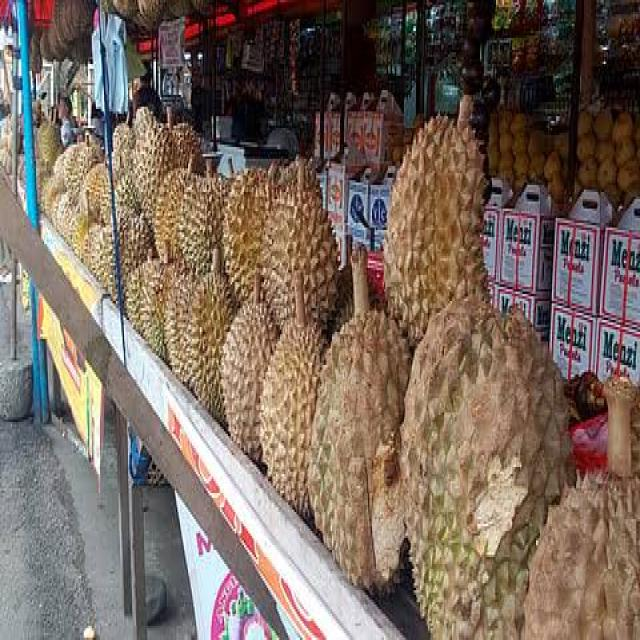mature: (408, 289, 574, 640), (307, 292, 418, 588), (380, 100, 499, 348), (254, 316, 330, 526), (255, 178, 343, 334)
